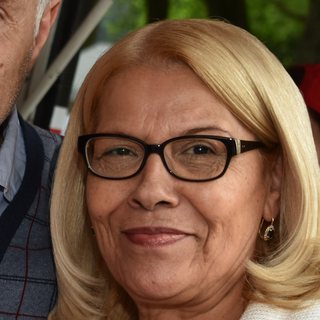eye: (180, 140, 224, 164), (101, 142, 141, 165)
